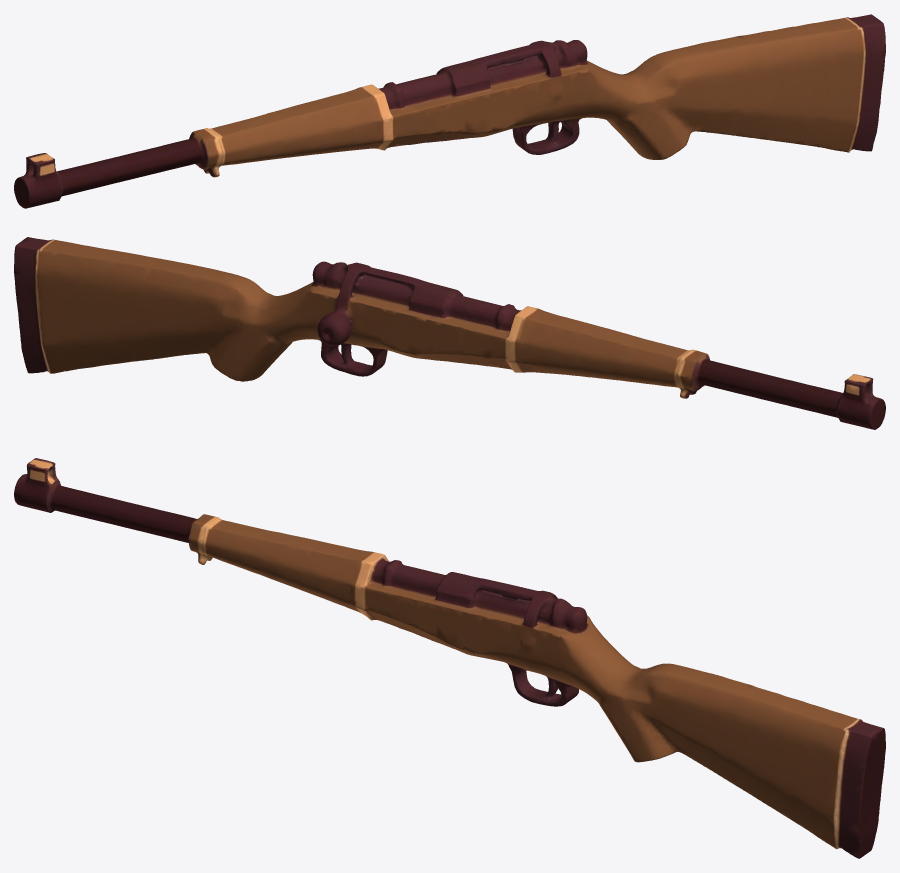
The model's file is wp_rifle.glb.
The picture shows the model from 3 angles, top to bottom: view 1: azimuth 30°, elevation 25°; view 2: azimuth 150°, elevation 25°; view 3: azimuth 330°, elevation 25°; orthographic projection.
Visible parts, largest first — view 1: Mesh_0; view 2: Mesh_0; view 3: Mesh_0.
Boxes of the visible parts, x1,y1,x2,y2 form: Mesh_0: [14, 14, 885, 208]; Mesh_0: [14, 237, 885, 429]; Mesh_0: [14, 458, 885, 858].
Bounding box in the file's own units: 1.9 × 0.4046 × 0.1705.
Materials: 1 (1 with a texture image).
